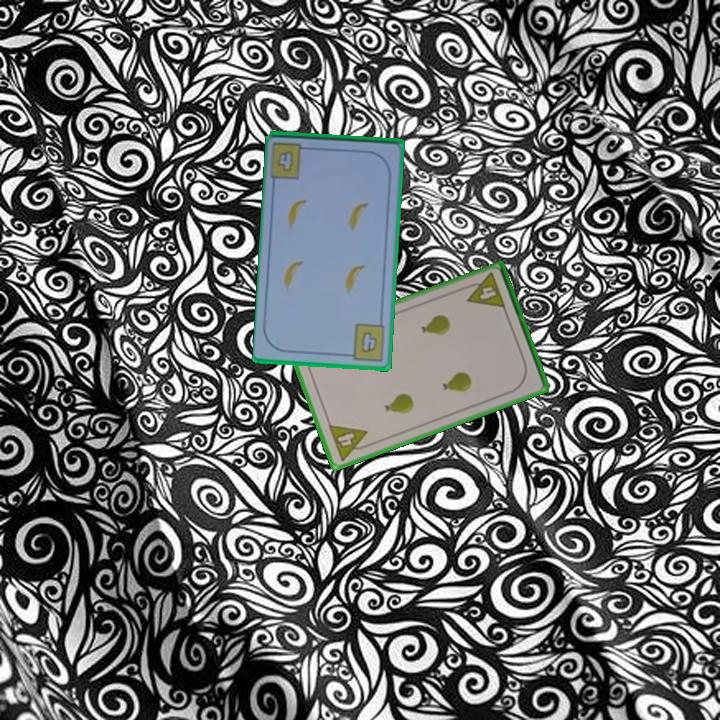4b: (343, 320, 388, 364), (274, 147, 297, 175)
4p: (325, 421, 375, 464), (460, 269, 508, 312)
